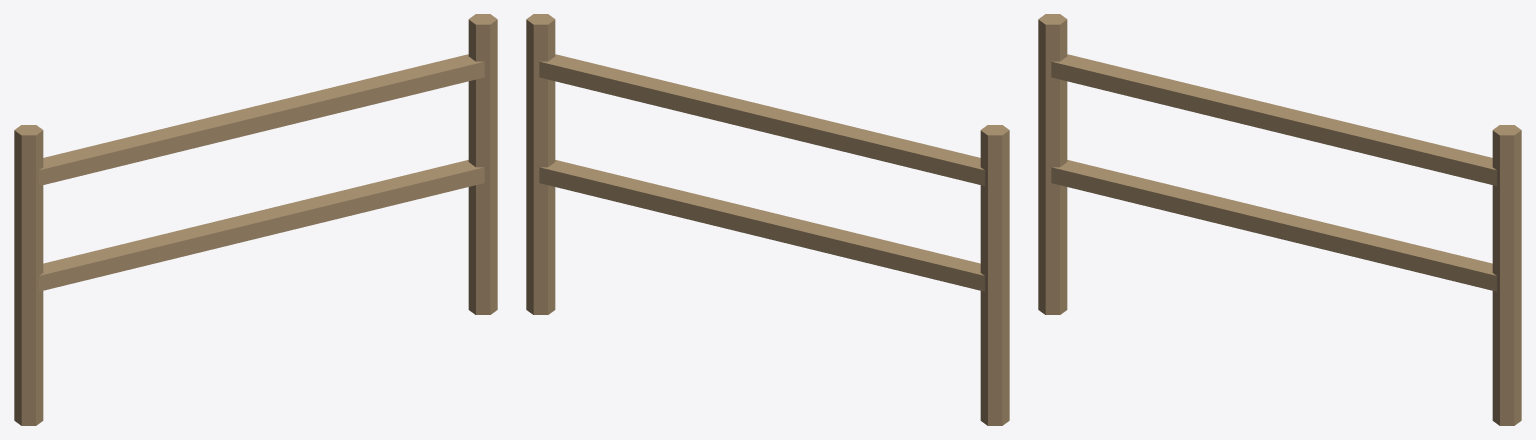
File: wood_section.glb
3 views of the same model, side by side, from view 1: azimuth 30°, elevation 25°; view 2: azimuth 150°, elevation 25°; view 3: azimuth 330°, elevation 25° (orthographic).
Parts seen in each view (by area): view 1: FenceWoodSection; view 2: FenceWoodSection; view 3: FenceWoodSection.
Part boxes in pixels (bbox=[...]): FenceWoodSection: bbox=[14, 14, 497, 425]; FenceWoodSection: bbox=[526, 14, 1009, 425]; FenceWoodSection: bbox=[1038, 14, 1521, 425].
Size of the model in its own units: 1.89 by 1.1 by 0.1.
